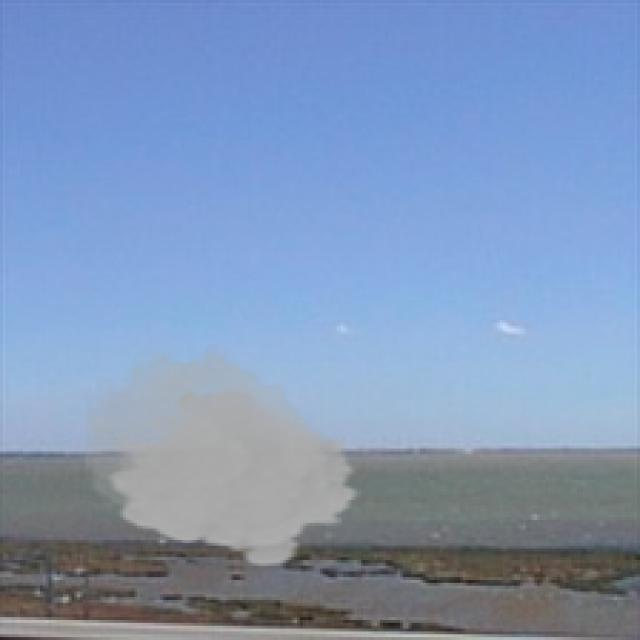smoke: (86, 343, 363, 568)
